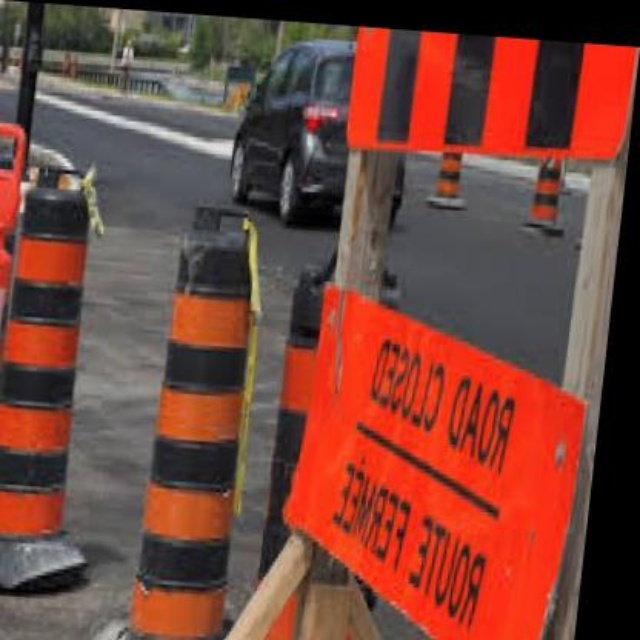obstacle: (134, 202, 278, 640), (0, 162, 110, 560)
